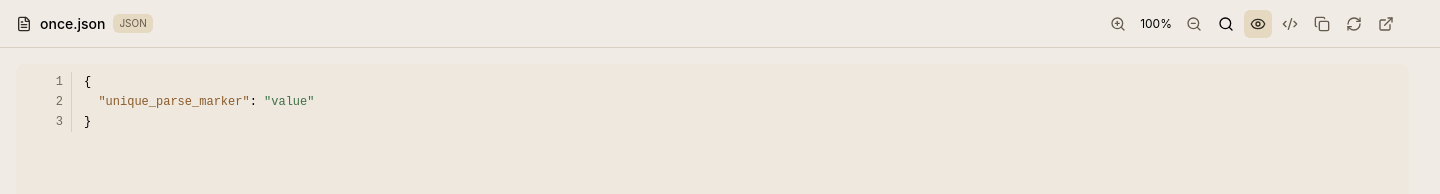
parses formatted JSON once for both rendering and search
Expected: the text "\"unique_parse_marker\"" is shown, [98,95,250,109]
Click the button named "Find in file" at x=1226, y=24, box [1212,10,1240,38]
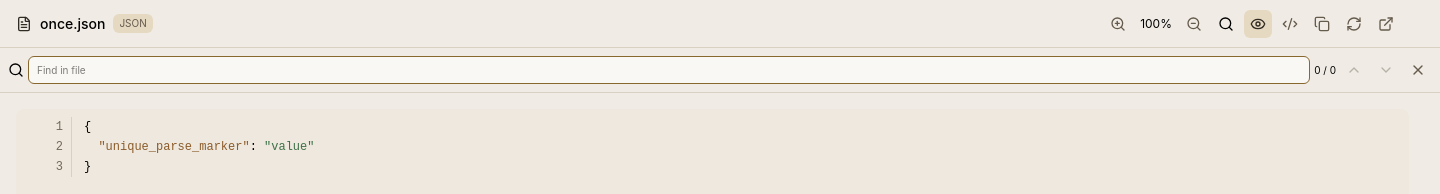
Type "value" into the field labelled "Find in file" at x=669, y=70, box [28,56,1310,84]
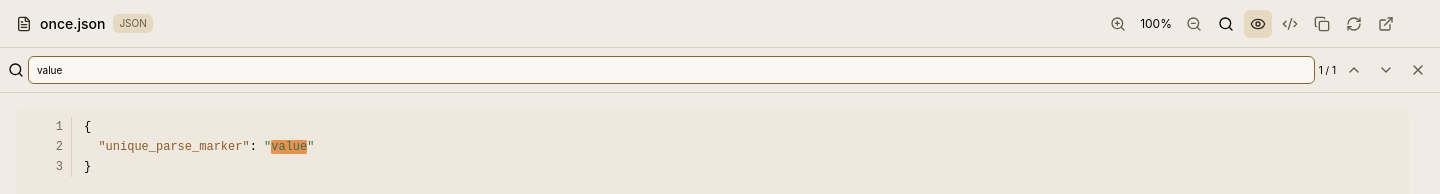
Now the text "1 / 1" is shown, box [1319,62,1336,78]
